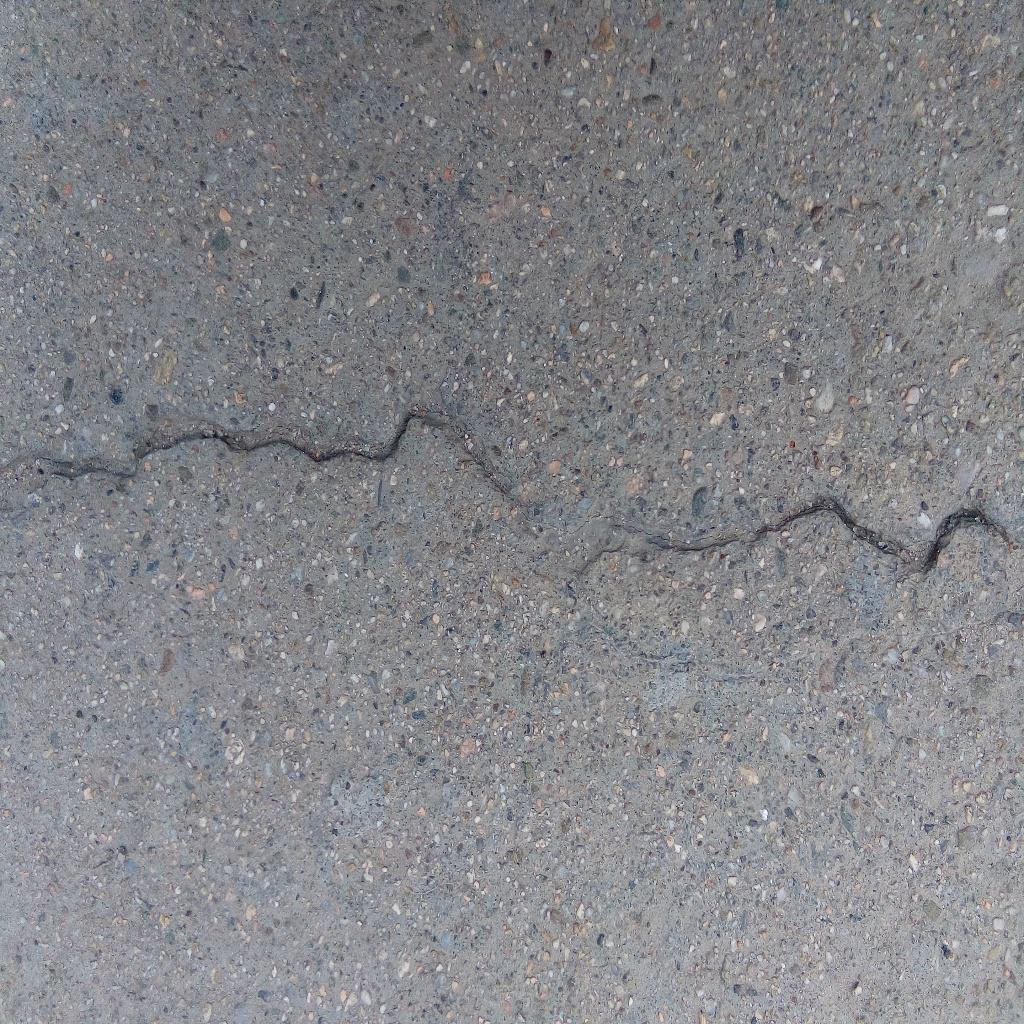Crack: (1, 406, 1024, 584)
